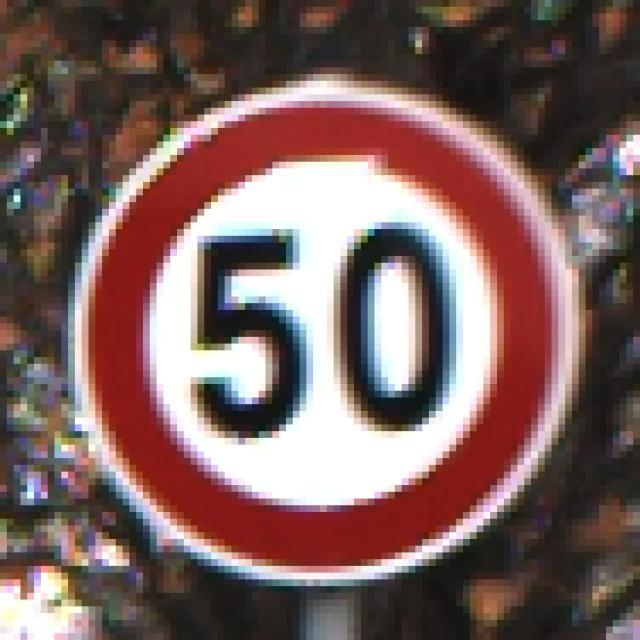speed limit 50: (63, 71, 589, 593)
